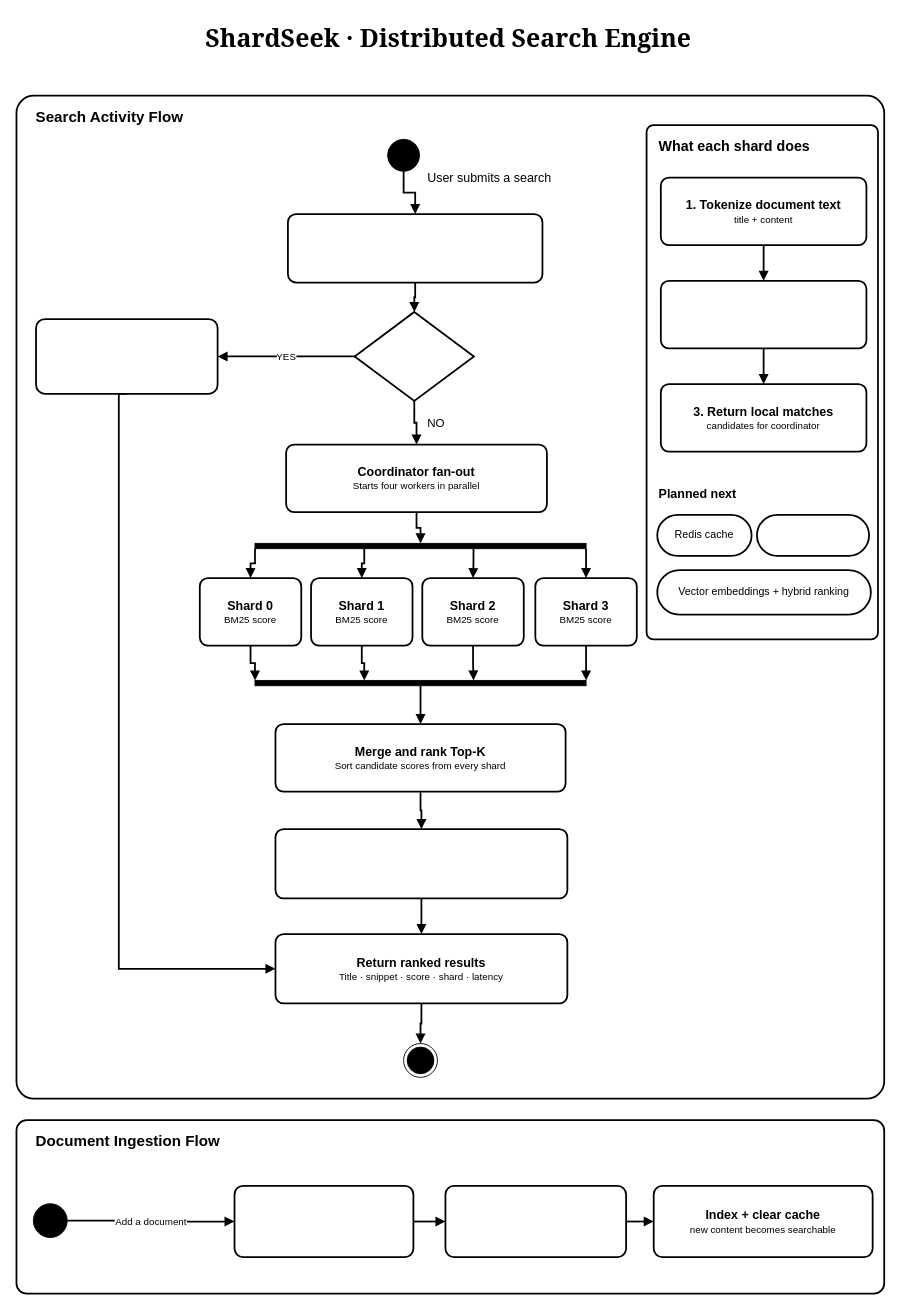
The diagram is 900 pixels wide and 1309 high, and some of its shapes have lost their labels. The shapes that lost their labels are listed below. From the top down, each one's centre as x and y in pixels, then its label:
pixel 415 248: Search Controller Receives GET /api/search?q=...
pixel 763 314: 2. Calculate BM25 term frequency + relevance
pixel 126 356: Cache hit Return saved Top-K
pixel 413 356: Cached?
pixel 813 535: Docker + etcd
pixel 421 863: Save response to cache Next identical request is a cache hit
pixel 323 1221: POST /documents validate request
pixel 535 1221: Hash document ID select a logical shard
